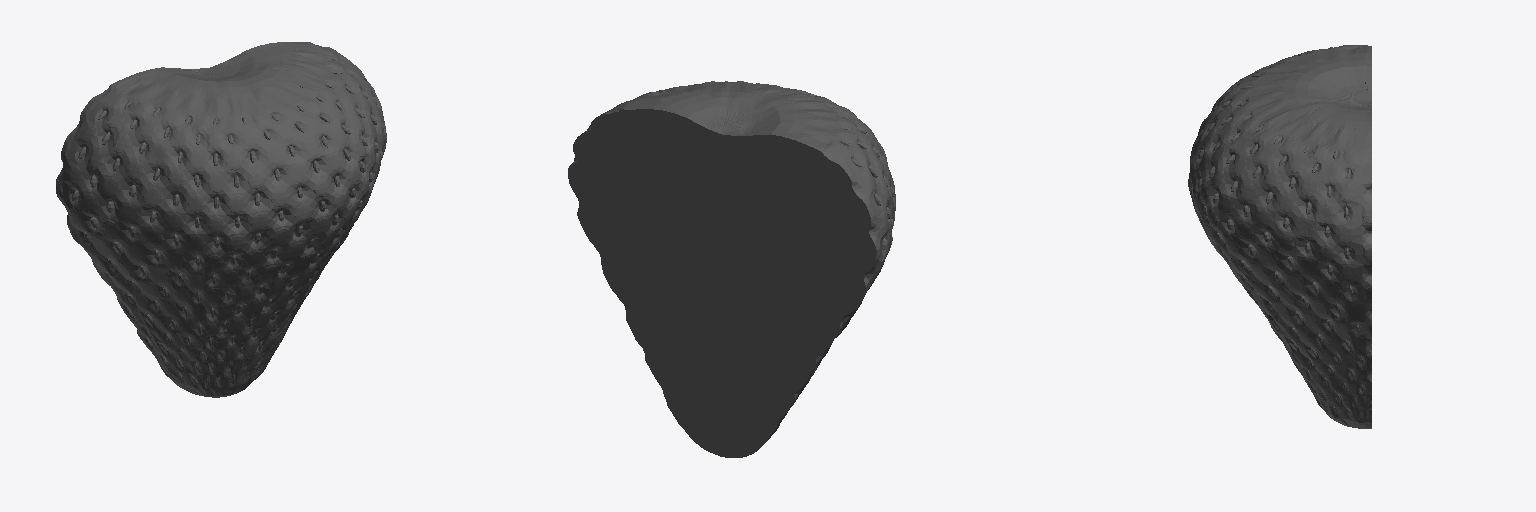
Rendered from Strawberry_chopped.obj.
3 renders of one model, left to right at view 1: azimuth 30°, elevation 25°; view 2: azimuth 150°, elevation 25°; view 3: azimuth 270°, elevation 25°, orthographic.
Visible parts, largest first — view 1: Object02_Untitled.011; view 2: Object02_Untitled.011; view 3: Object02_Untitled.011.
Boxes of the visible parts, box(x1,y1,x2,y2) form: Object02_Untitled.011: box(56, 42, 386, 397); Object02_Untitled.011: box(568, 81, 895, 457); Object02_Untitled.011: box(1188, 45, 1371, 428).
Size of the model in its own units: 314 by 325 by 161.